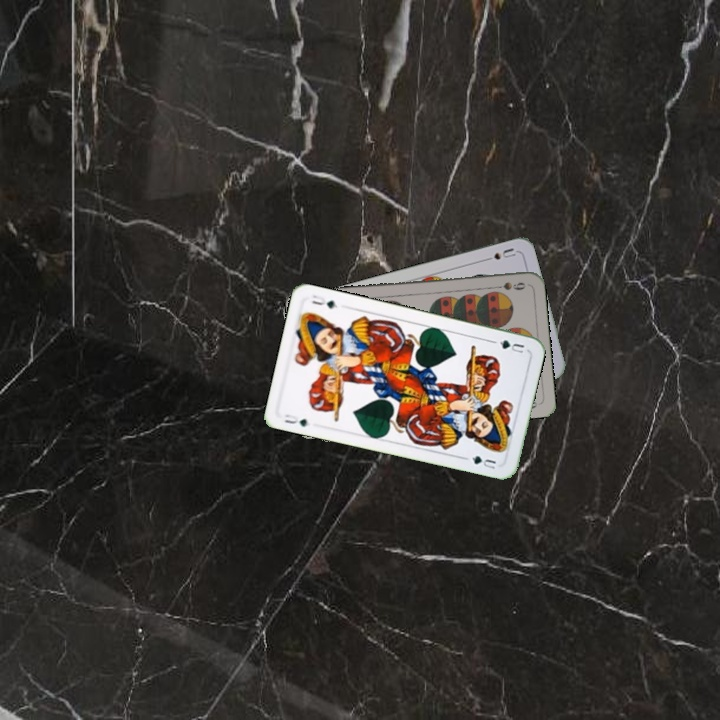GU: (495, 336, 527, 356), (280, 410, 313, 429)
S9: (488, 278, 528, 293)
SU: (479, 244, 518, 264)
